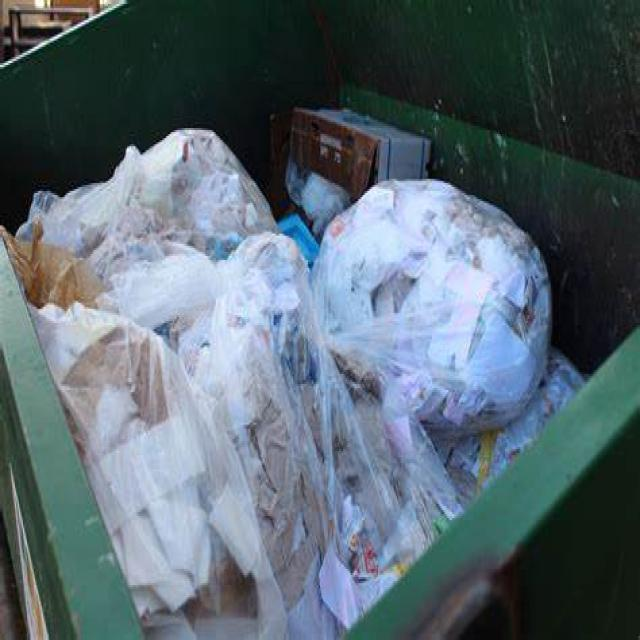Garbage: (0, 108, 584, 638)
Plastic: (141, 576, 262, 640), (278, 214, 319, 268)
Plastic_Bag: (174, 233, 464, 639), (31, 303, 285, 637), (312, 179, 551, 436), (1, 130, 275, 345), (429, 348, 584, 505)
Plastic_bottle: (209, 529, 239, 615)
